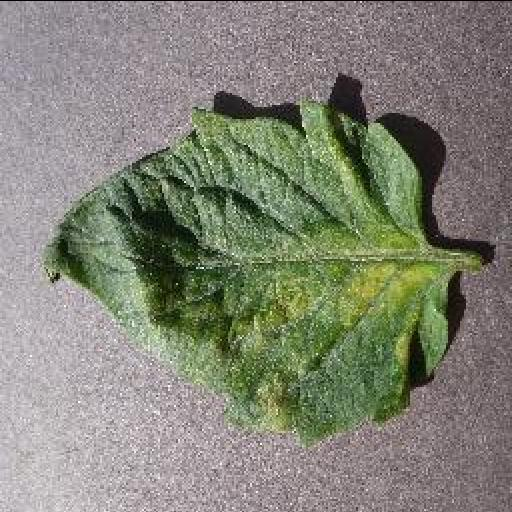disease_tomato: (42, 98, 454, 444)
